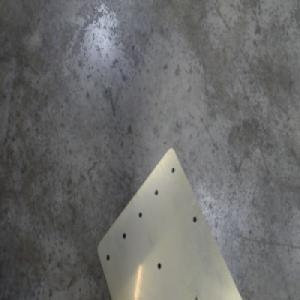MetalSheet: (95, 142, 248, 300)
